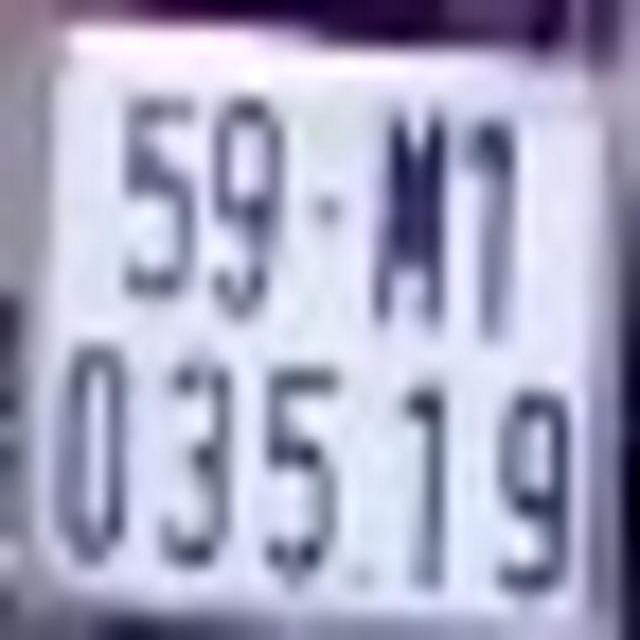0: (50, 329, 130, 577)
1: (456, 104, 532, 338), (389, 364, 462, 602)
3: (155, 338, 234, 580)
5: (112, 82, 202, 301), (260, 350, 339, 596)
9: (204, 76, 288, 322), (490, 363, 573, 599)
M: (366, 98, 454, 333)
